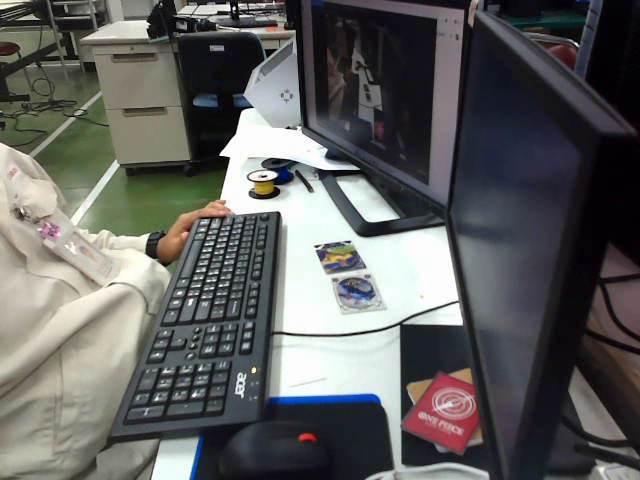can: (327, 273, 385, 313)
